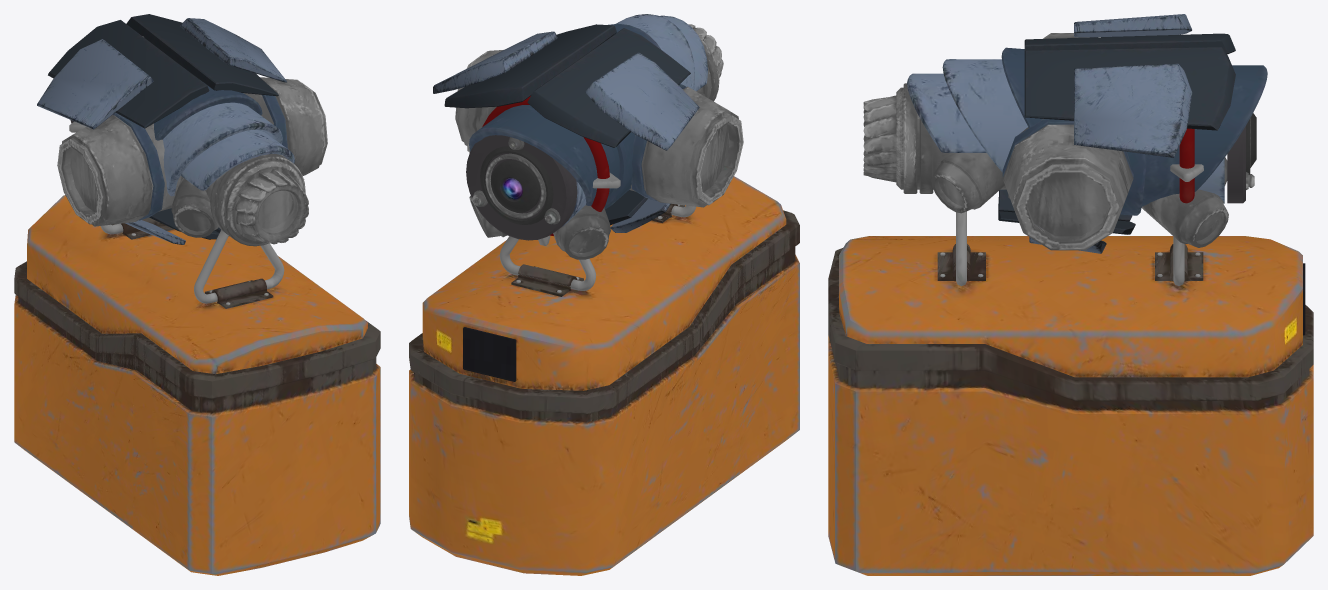
The model's file is drone-transformed.glb.
The picture shows the model from 3 angles, left to right: view 1: azimuth 30°, elevation 25°; view 2: azimuth 150°, elevation 25°; view 3: azimuth 270°, elevation 25°; orthographic projection. The views are drawn at different scales.
Parts seen in each view (by area): view 1: Object_2, Object_3, Object_4; view 2: Object_2, Object_3, Object_4; view 3: Object_2, Object_3, Object_4.
Part boxes in pixels (x1,y1,x2,y2): Object_2: (14,195,380,575); Object_3: (57,36,327,246); Object_4: (37,14,286,244); Object_2: (409,176,799,575); Object_3: (455,14,743,259); Object_4: (433,24,699,232); Object_2: (828,211,1313,575); Object_3: (863,33,1267,250); Object_4: (998,14,1235,253).
Bounding box in the file's own units: 33.32 × 58.06 × 52.5.
Materials: 3 (3 with a texture image).
